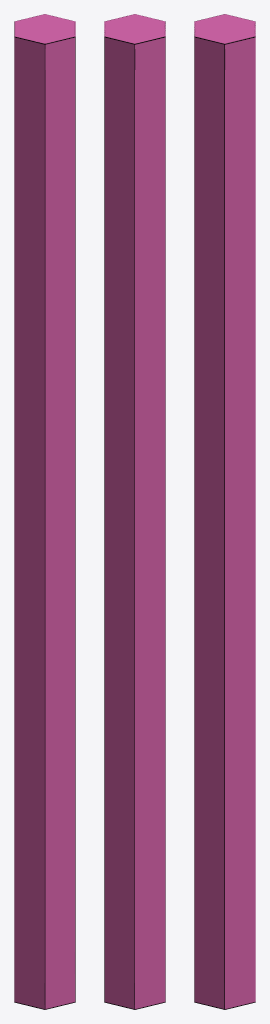
File: world2.obj
3 renders of one model, left to right at view 1: azimuth 30°, elevation 25°; view 2: azimuth 150°, elevation 25°; view 3: azimuth 330°, elevation 25°, orthographic.
Parts seen in each view (by area): view 1: 円; view 2: 円; view 3: 円.
Boxes of the visible parts, bbox=[...] form: 円: bbox=[14, 14, 75, 1009]; 円: bbox=[104, 14, 165, 1009]; 円: bbox=[194, 14, 255, 1009].
Size of the model in its own units: 0.5 by 7.5 by 0.433.
Materials: 1 (1 with a texture image).
